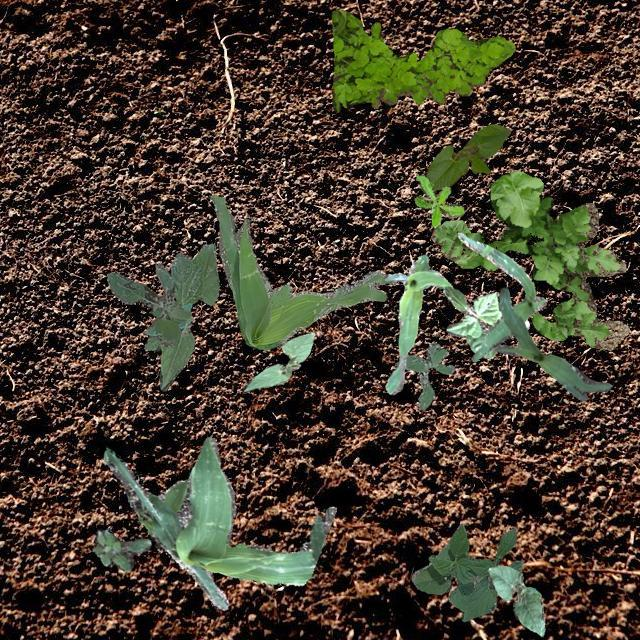crop: (102, 436, 336, 608), (492, 286, 610, 399), (457, 232, 545, 361), (142, 242, 218, 390), (410, 522, 522, 620), (384, 254, 452, 394), (442, 286, 528, 358), (424, 124, 510, 190), (242, 332, 314, 390), (486, 564, 544, 636)
weed: (430, 170, 628, 348), (208, 194, 394, 348), (331, 9, 514, 110), (106, 262, 190, 346), (394, 342, 454, 409), (413, 174, 462, 226), (91, 528, 150, 570)
